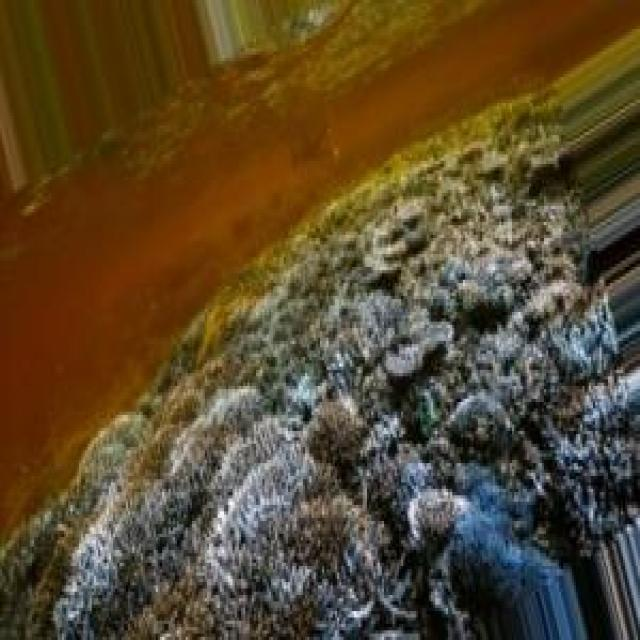Healthy: (1, 91, 640, 640)
